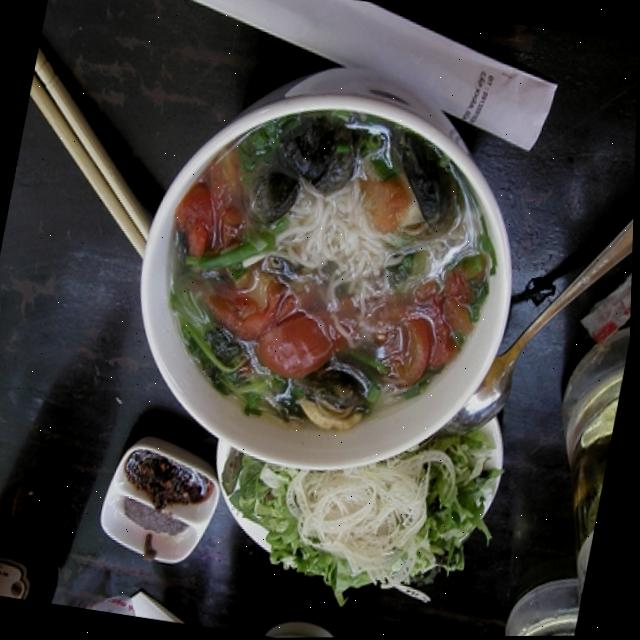面条主食: (89, 37, 549, 533)
